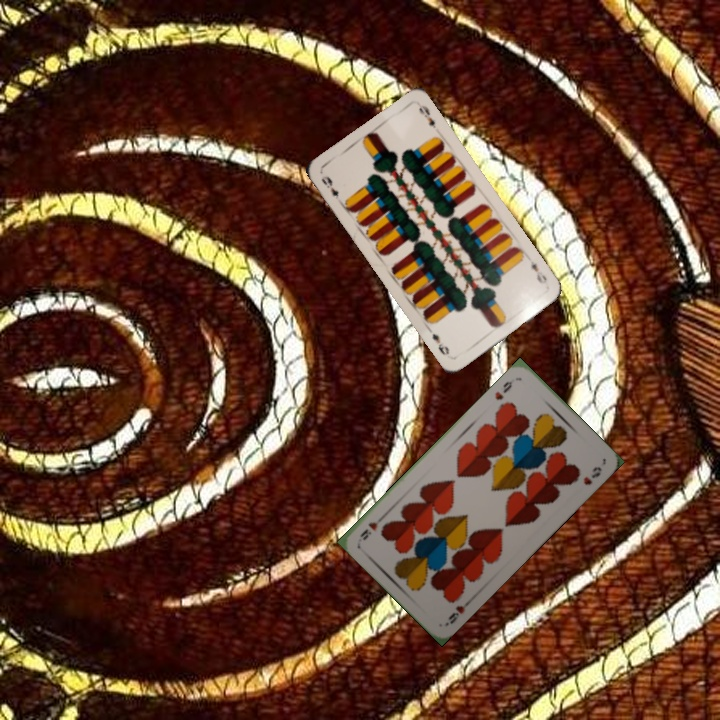E9: (317, 171, 341, 202), (526, 257, 550, 287)
H9: (442, 595, 474, 628), (491, 377, 515, 403)
